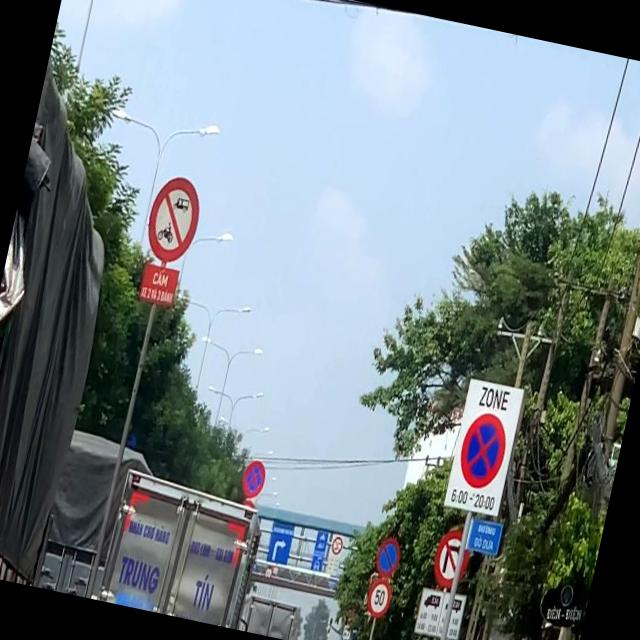P-104: (140, 168, 207, 264)
P-130: (453, 407, 512, 494)
